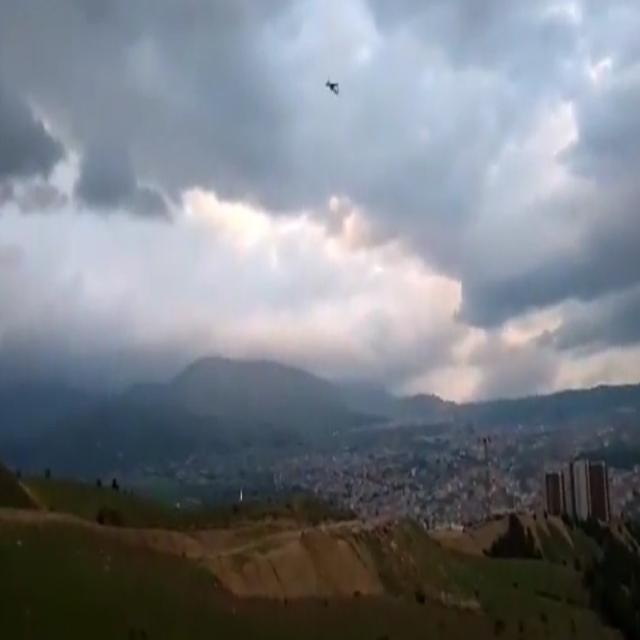iha: (318, 13, 334, 35)
